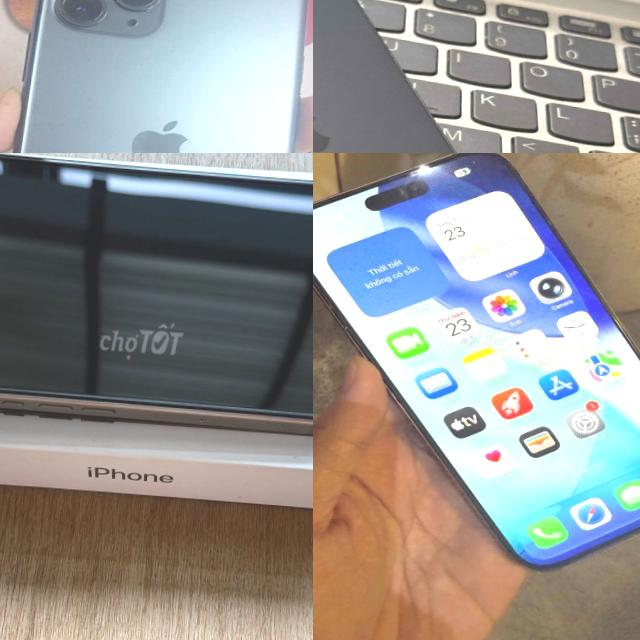gen_11: (0, 0, 313, 153)
gen_15: (313, 0, 588, 153)
gen_16: (313, 153, 640, 569), (0, 153, 313, 452)
